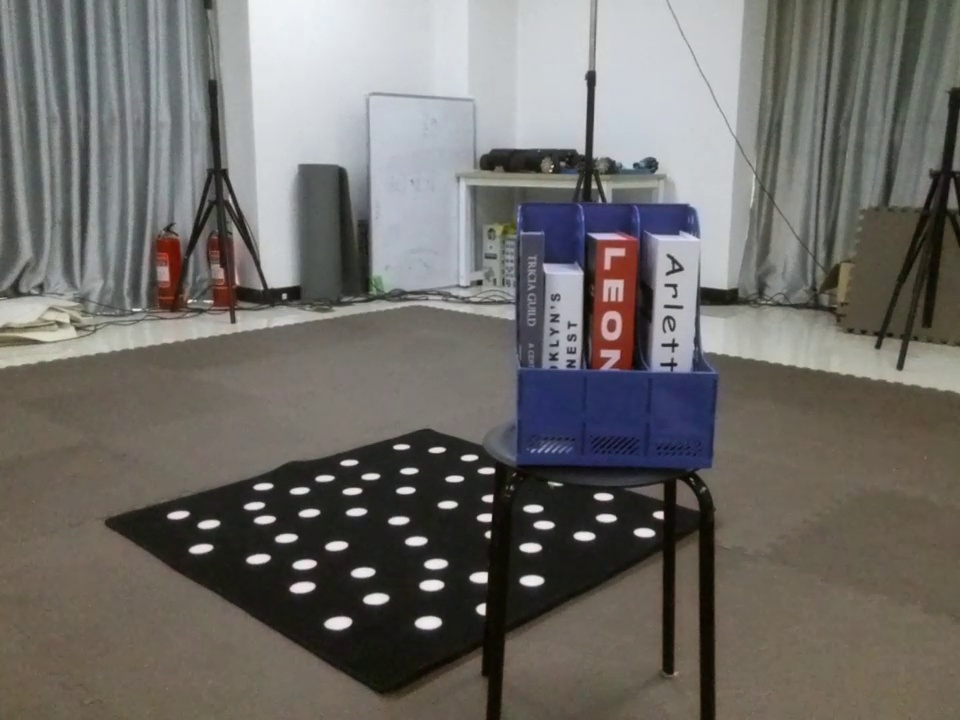files: (499, 192, 726, 481)
